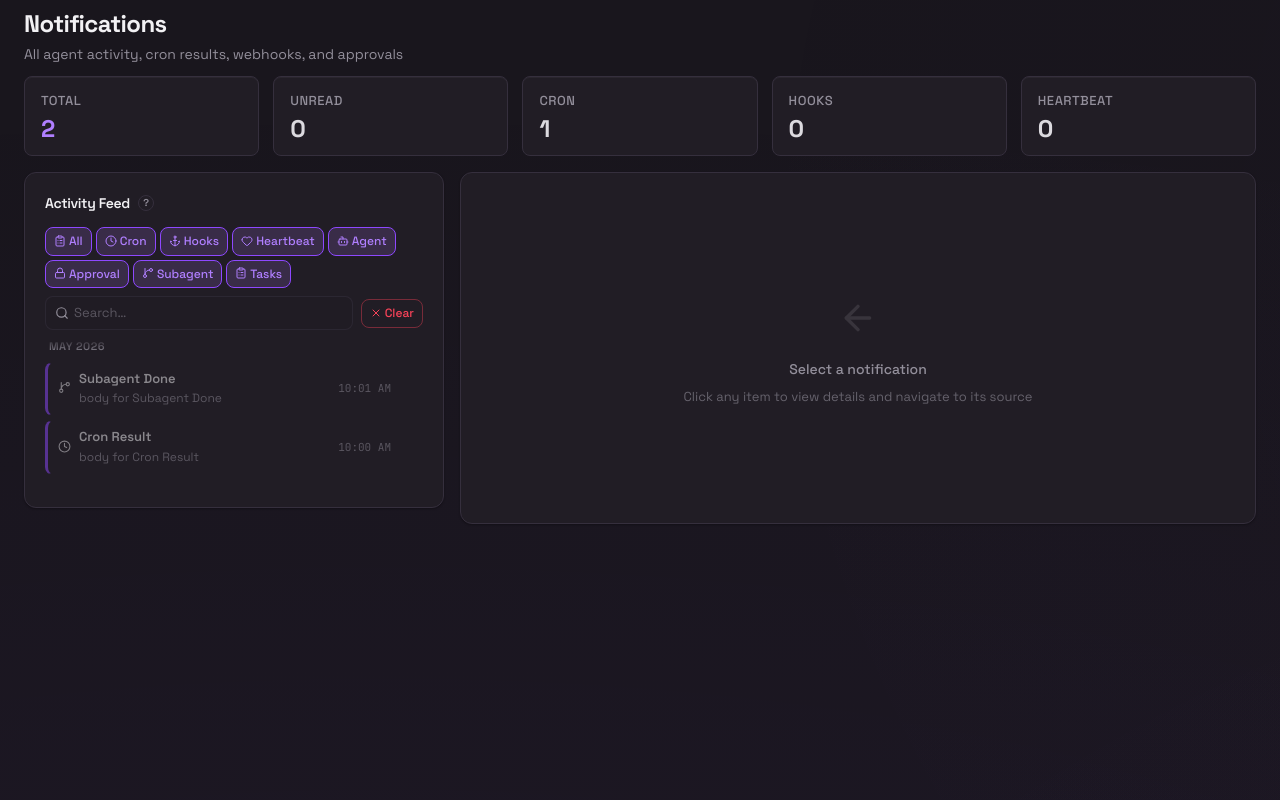
Test case: NotificationsPage multi-select filter › clicking All when all are selected clears every category (empty state)
Click the button "All": (68, 241) [45, 227, 92, 256]
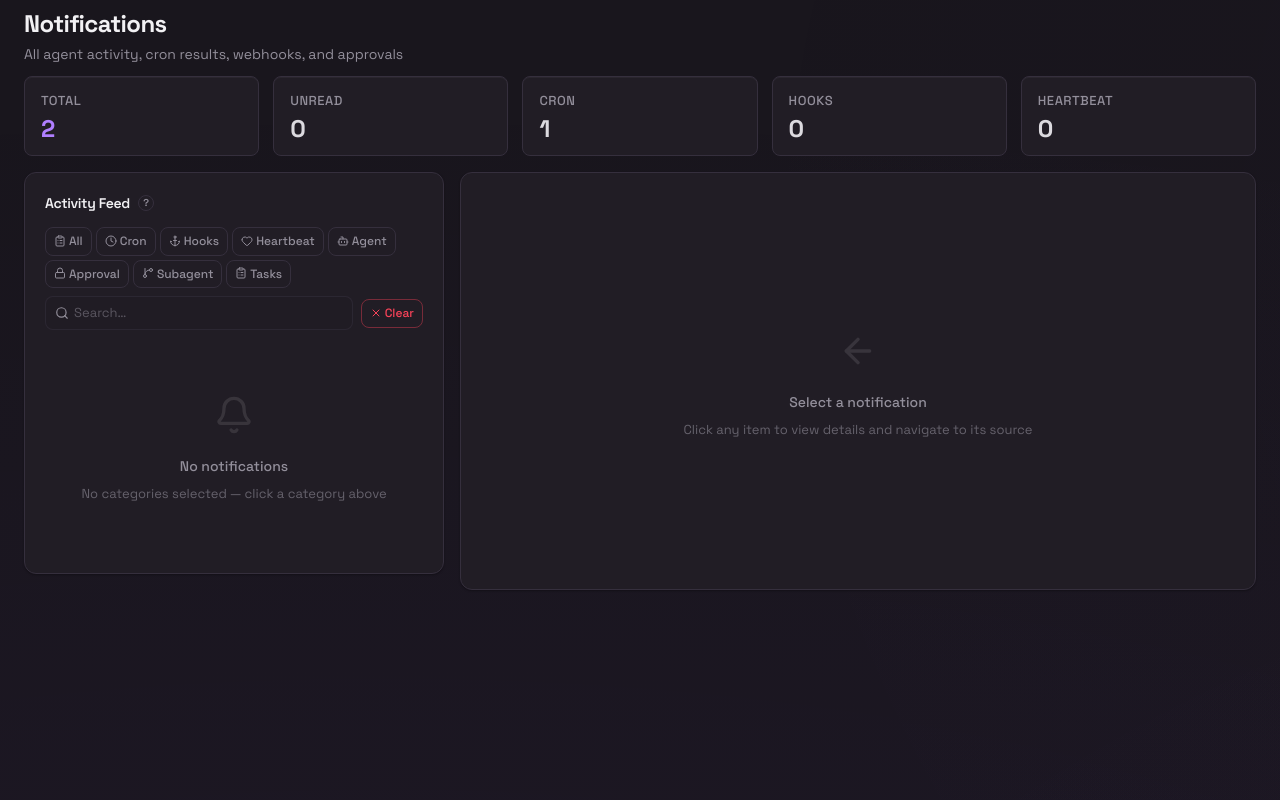
Expected: the button "Subagent Done" is gone
Expected: the text "No categories selected — click a category above" is shown, [81, 484, 387, 505]
